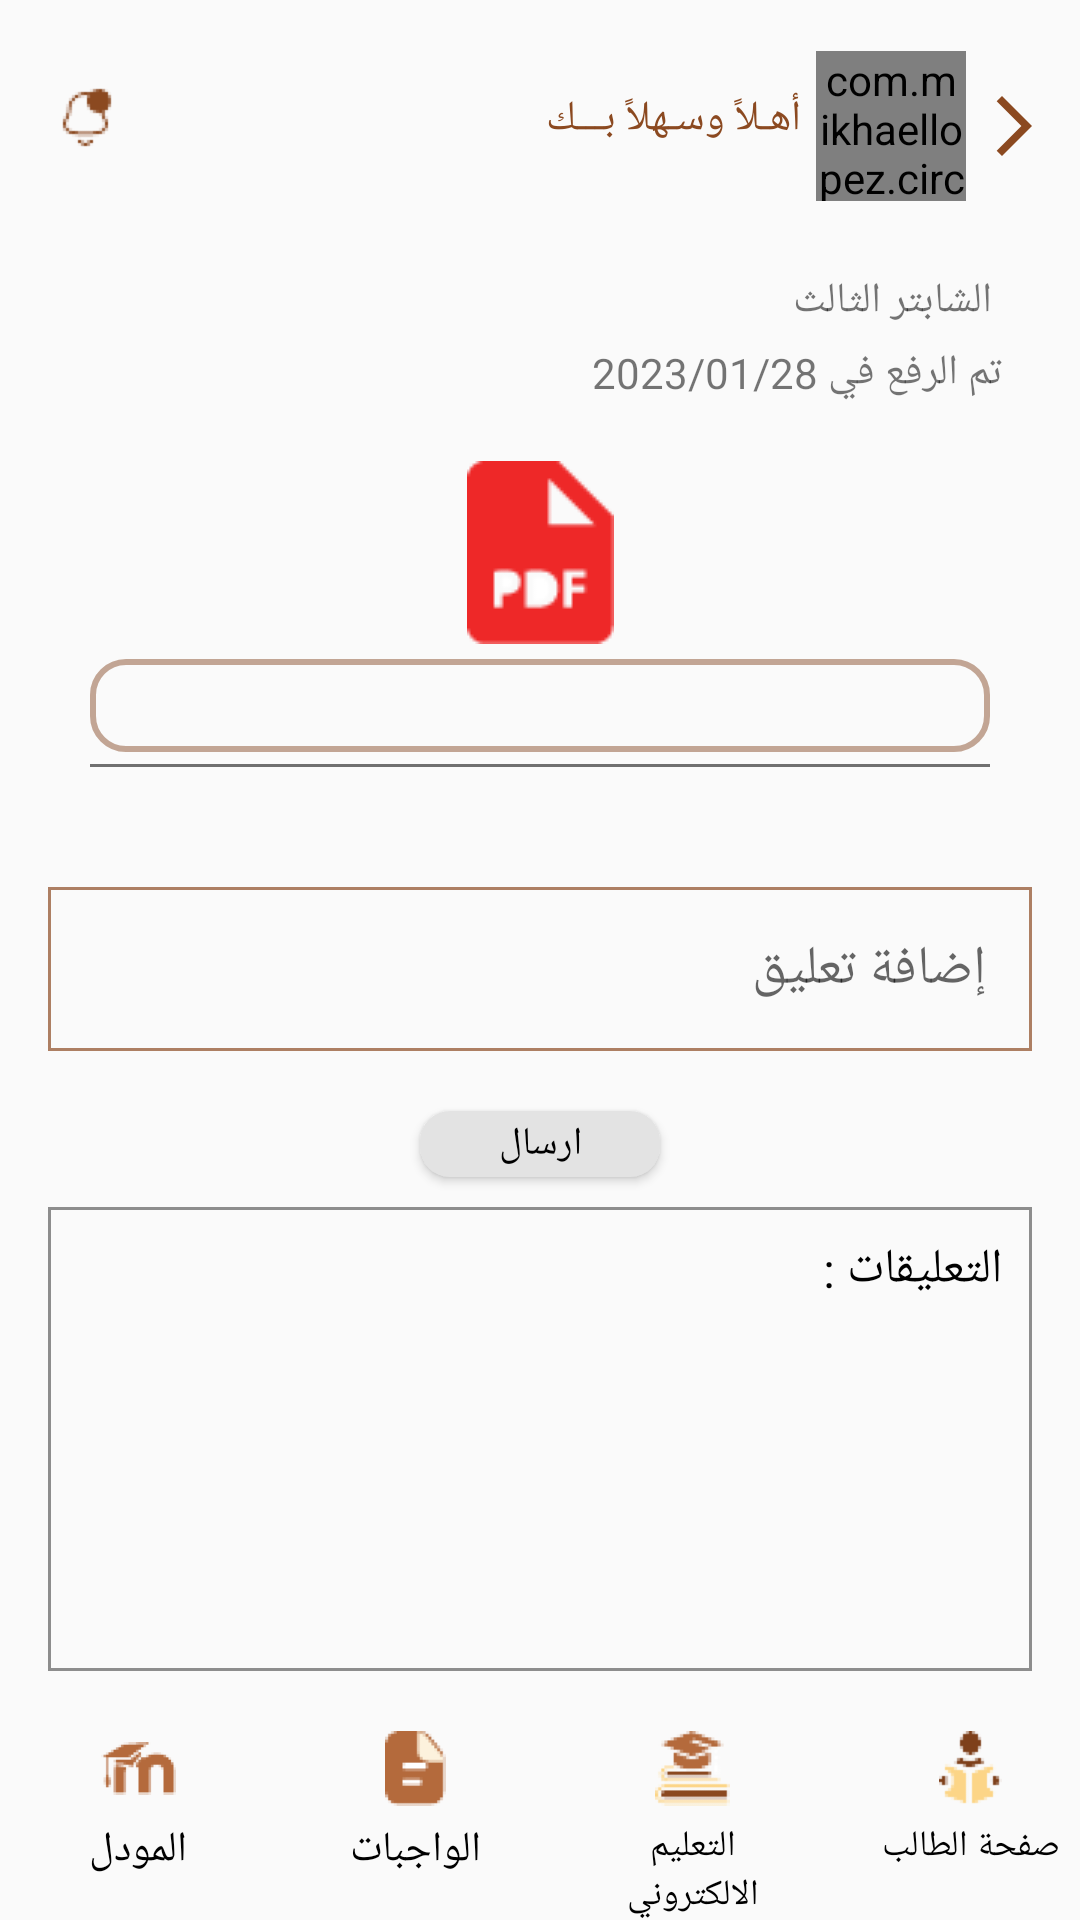

Where to tap for icons on this 1080*1920 app screen, as point (x, y):
arrow forward: point (1014, 126)
